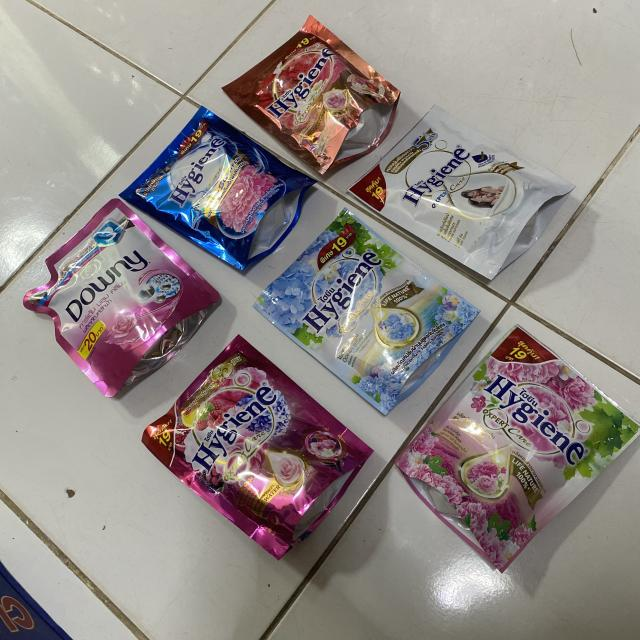plastik: (396, 326, 640, 572), (142, 336, 372, 559), (255, 209, 479, 414), (24, 199, 220, 398), (349, 106, 574, 279), (120, 106, 315, 270), (222, 16, 400, 174)
